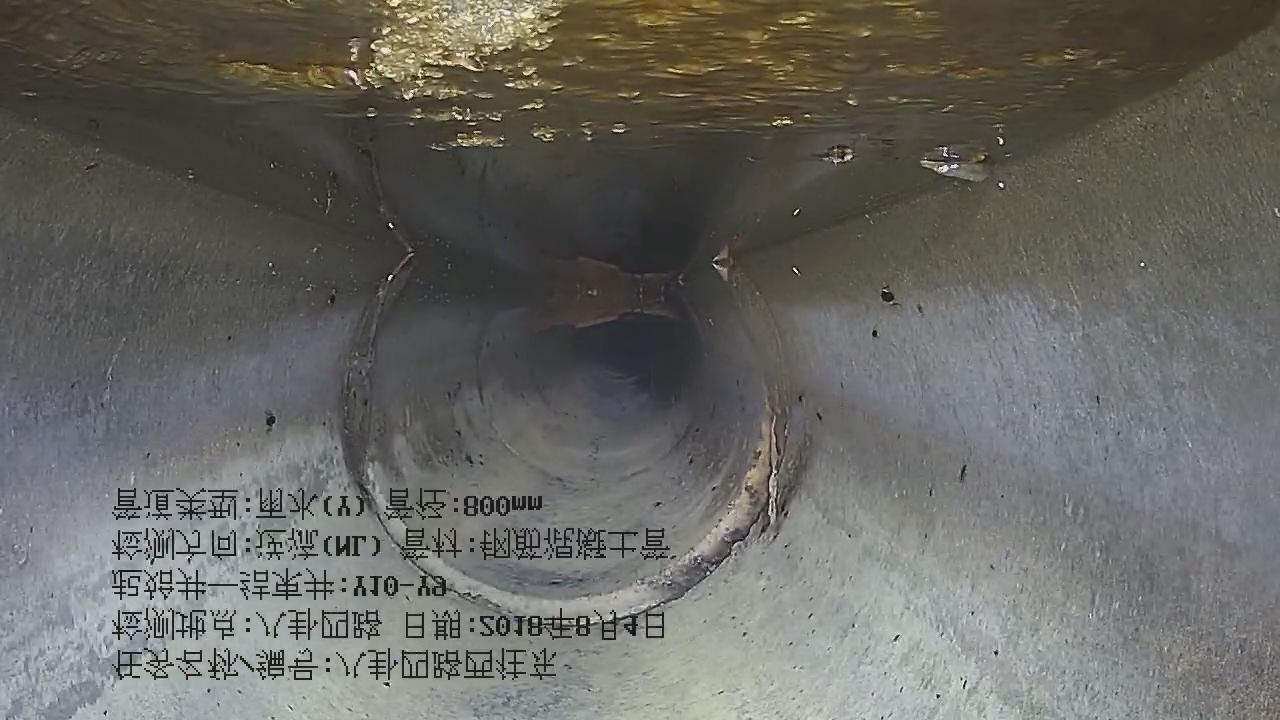CJ: (0, 1, 1279, 180)
CKTJ: (336, 239, 799, 635)
